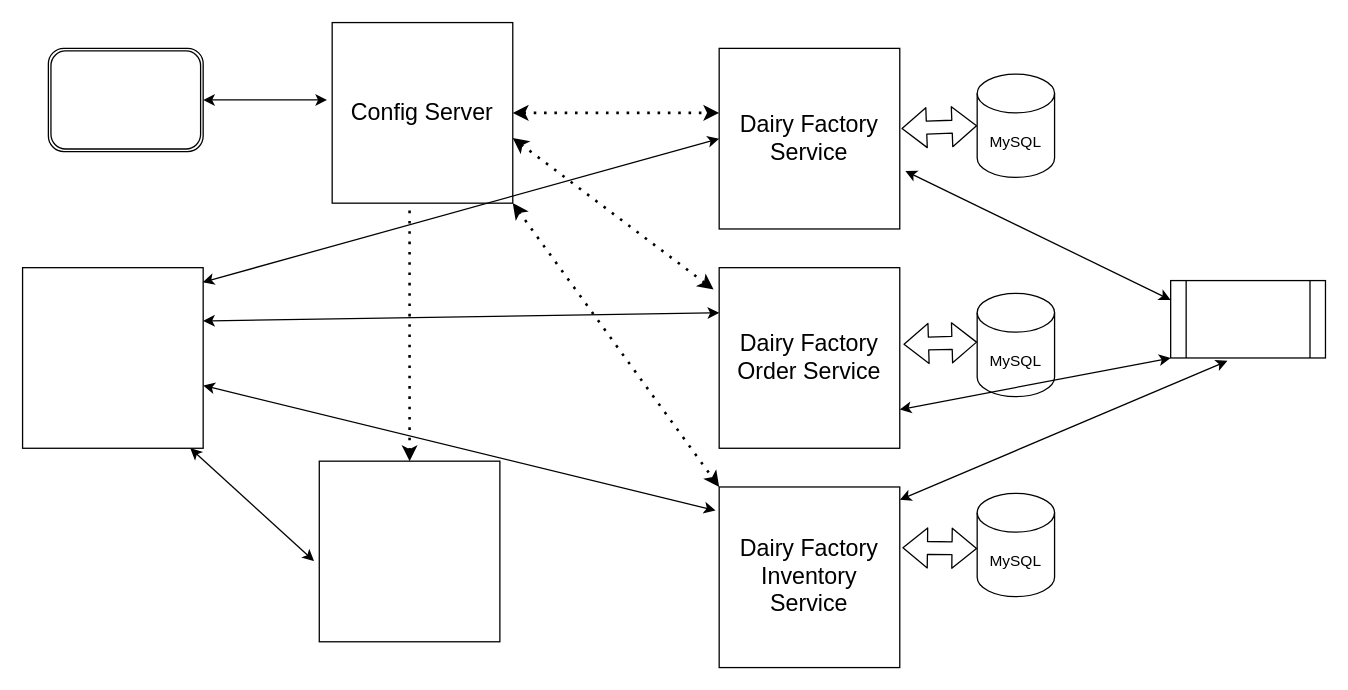
Some shapes in this 1348 by 690 pixel diagram are drawn without their labels. Each missing label, with the centre of its shape:
"ActiveMQ" goes at point (1247, 318).
"API Gateway" goes at point (112, 357).
"Eureka Server" goes at point (409, 551).
"GIT repo with config data" goes at point (125, 99).
